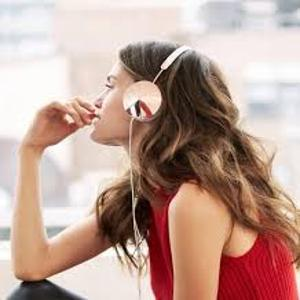Headphones: (118, 41, 211, 132)
